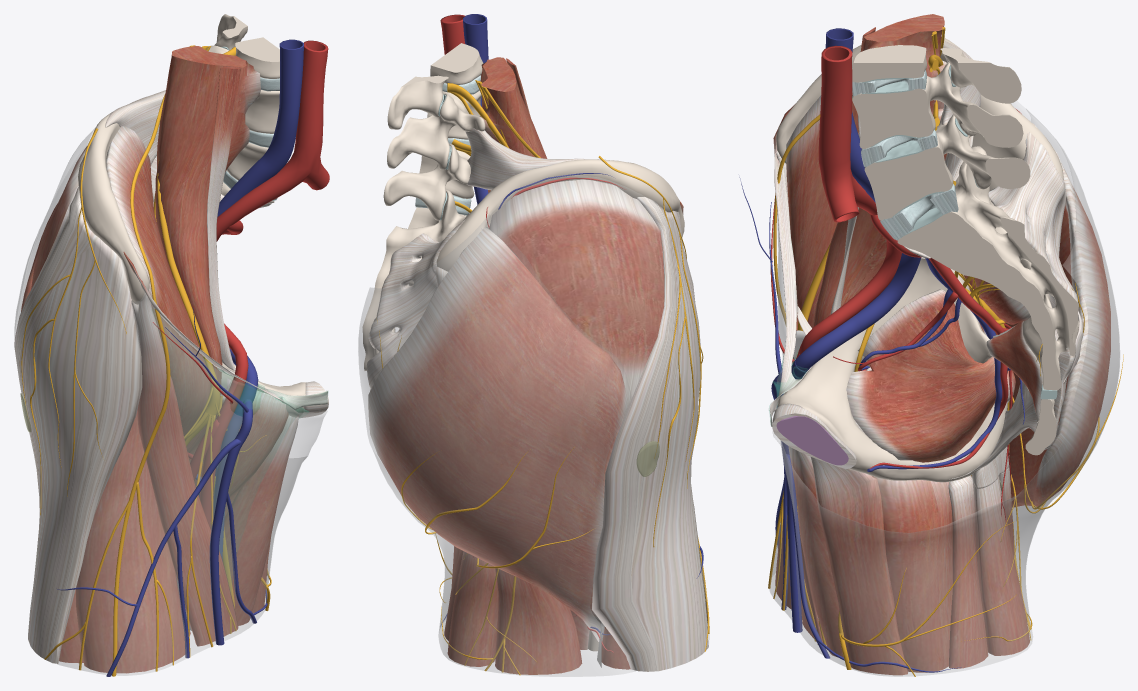
Rendered from open3dmodel-zone-hip.glb.
3 views of the same model, side by side, from view 1: azimuth 30°, elevation 25°; view 2: azimuth 150°, elevation 25°; view 3: azimuth 270°, elevation 25° (orthographic). The views are drawn at different scales.
Visible parts, largest first — view 1: Fascia lata.r, Iliotibial tract.r, Rectus femoris.r, Psoas major.r, Sartorius muscle.r, Femoral triangle.r, Iliacus muscle.r, External iliac artery.r, Adductor longus.r, Hip bone.r, Inferior vena cava, Psoas minor.r (+21 smaller); view 2: Fascia lata.r, Gluteus maximus muscle.r, Iliotibial tract.r, Gluteus medius muscle.r, Gluteal aponeurosis.r, Long head of biceps femoris.r, Hip bone.r, Interossea / Posterior sacro-iliac ligament.r, Semitendinosus muscle.r, Lumbar vertebrae (L4), Lumbar vertebrae (L3), Psoas major.r (+12 smaller); view 3: Fascia lata.r, Obturator internus.r, Hip bone.r, Sacrum, Gluteus maximus muscle.r, Gracilis muscle.r, Adductor magnus.r, External iliac artery.r, Lumbar vertebrae (L5), Lumbar vertebrae (L4), Psoas major.r, Iliacus muscle.r (+34 smaller).
Part boxes in pixels (x1,y1,x2,y2): Fascia lata.r: (14, 145, 327, 675); Iliotibial tract.r: (14, 187, 142, 663); Rectus femoris.r: (76, 411, 185, 673); Psoas major.r: (155, 45, 260, 452); Sartorius muscle.r: (131, 294, 238, 646); Femoral triangle.r: (152, 308, 300, 589); Iliacus muscle.r: (106, 126, 210, 440); External iliac artery.r: (216, 40, 329, 383); Adductor longus.r: (224, 415, 298, 625); Hip bone.r: (78, 112, 305, 417); Inferior vena cava: (217, 39, 303, 385); Psoas minor.r: (207, 67, 240, 370); Fascia lata.r: (358, 214, 709, 676); Gluteus maximus muscle.r: (368, 227, 627, 641); Iliotibial tract.r: (591, 197, 708, 671); Gluteus medius muscle.r: (489, 179, 664, 410); Gluteal aponeurosis.r: (490, 175, 664, 395); Long head of biceps femoris.r: (495, 568, 581, 674); Hip bone.r: (436, 159, 684, 271); Interossea / Posterior sacro-iliac ligament.r: (366, 219, 465, 389); Semitendinosus muscle.r: (447, 551, 498, 666); Lumbar vertebrae (L4): (387, 90, 485, 169); Lumbar vertebrae (L3): (387, 43, 483, 129); Psoas major.r: (479, 57, 547, 192); Fascia lata.r: (769, 109, 1119, 676); Obturator internus.r: (846, 289, 1007, 462); Hip bone.r: (776, 36, 1063, 482); Sacrum: (897, 146, 1079, 390); Gluteus maximus muscle.r: (971, 123, 1110, 507); Gracilis muscle.r: (810, 457, 907, 675); Adductor magnus.r: (874, 476, 952, 672); External iliac artery.r: (799, 45, 901, 354); Lumbar vertebrae (L5): (864, 109, 1030, 220); Lumbar vertebrae (L4): (852, 61, 1023, 148); Psoas major.r: (813, 14, 945, 326); Iliacus muscle.r: (786, 60, 947, 328).
Bounding box in the file's own units: 0.1804 × 0.3519 × 0.1897.
Materials: 24 (8 with a texture image).
